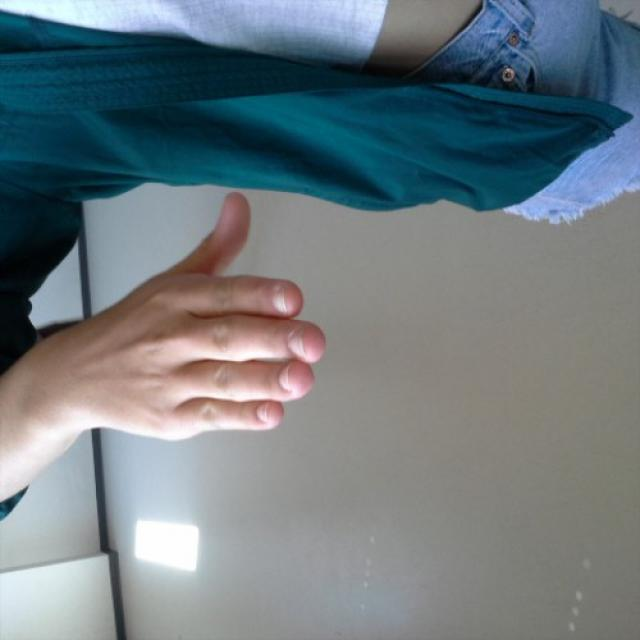paper: (132, 191, 326, 441)
